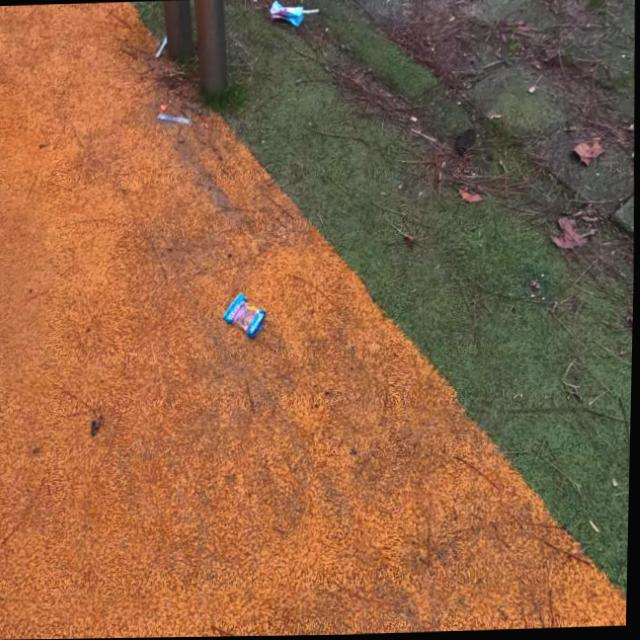Plastic: (221, 289, 269, 341)
